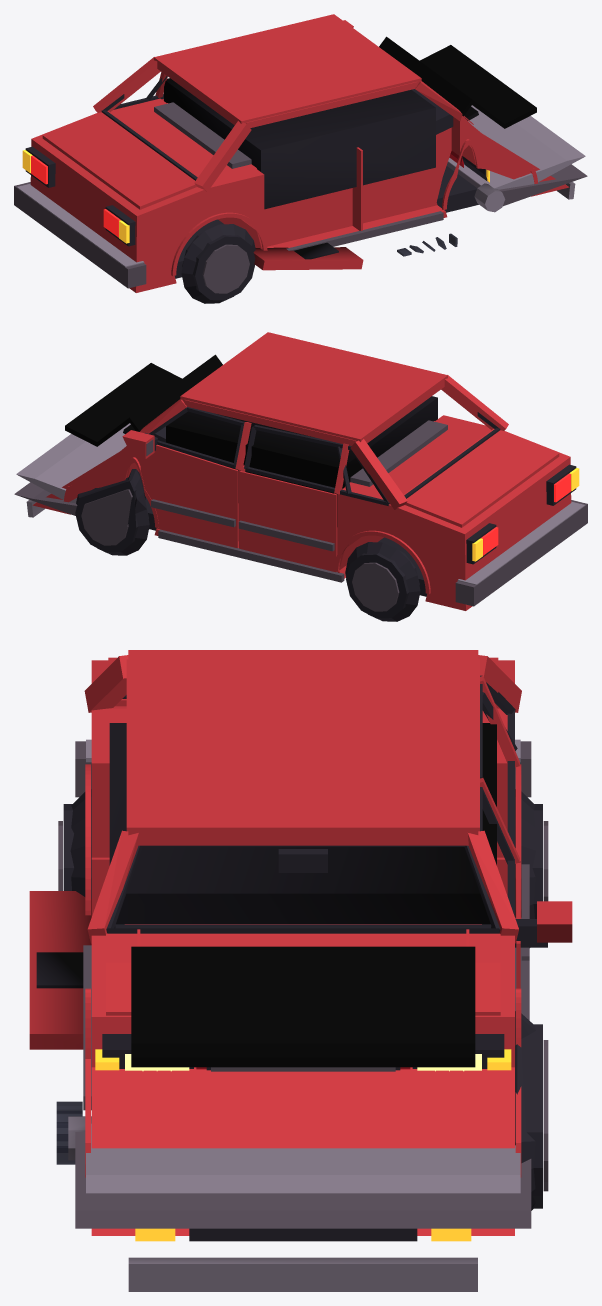
Rendered from model.wrecked.lod1.glb.
3 views of the same model, one above another, from view 1: azimuth 30°, elevation 25°; view 2: azimuth 150°, elevation 25°; view 3: azimuth 270°, elevation 25° (orthographic). The views are drawn at different scales.
Visible parts, largest first — view 1: body_pal_survivorRed, exposedCabin, body_pal_asphalt, body_pal_sidewalk, buckledHood, body_pal_uiDark, wheelRL_pal_uiDark, tornDoor, wheelRL_pal_asphalt, lightsBrake_emi_sirenRed, exposedAxleHub, doorScorch (+1 smaller); view 2: body_pal_survivorRed, exposedCabin, doorR_pal_survivorRed, doorRearR_pal_survivorRed, body_pal_asphalt, buckledHood, body_pal_sidewalk, wheelRR_pal_uiDark, wheelFR_pal_uiDark, body_pal_uiDark, wheelFR_pal_asphalt, doorRearR_pal_uiDark (+6 smaller); view 3: body_pal_survivorRed, buckledHood, exposedCabin, body_pal_asphalt, body_pal_sidewalk, detachedBumper, body_pal_uiDark, tornDoor, wheelFR_pal_uiDark, doorR_pal_survivorRed, wheelRR_pal_uiDark, wheelRL_pal_uiDark (+6 smaller).
Part boxes in pixels (bbox=[...]): body_pal_survivorRed: bbox=[30, 14, 569, 292]; exposedCabin: bbox=[164, 78, 435, 209]; body_pal_asphalt: bbox=[14, 102, 587, 288]; body_pal_sidewalk: bbox=[16, 105, 585, 267]; buckledHood: bbox=[379, 36, 536, 128]; body_pal_uiDark: bbox=[25, 89, 487, 278]; wheelRL_pal_uiDark: bbox=[181, 224, 255, 303]; tornDoor: bbox=[253, 247, 363, 270]; wheelRL_pal_asphalt: bbox=[202, 244, 249, 293]; lightsBrake_emi_sirenRed: bbox=[31, 155, 120, 237]; exposedAxleHub: bbox=[474, 183, 505, 212]; doorScorch: bbox=[294, 242, 338, 259]; body_pal_survivorRed: bbox=[32, 332, 571, 610]; exposedCabin: bbox=[166, 396, 437, 526]; doorR_pal_survivorRed: bbox=[122, 422, 251, 548]; doorRearR_pal_survivorRed: bbox=[239, 443, 349, 572]; body_pal_asphalt: bbox=[14, 420, 587, 606]; buckledHood: bbox=[65, 354, 222, 446]; body_pal_sidewalk: bbox=[16, 423, 585, 585]; wheelRR_pal_uiDark: bbox=[345, 542, 420, 621]; wheelFR_pal_uiDark: bbox=[75, 469, 149, 555]; body_pal_uiDark: bbox=[145, 412, 576, 596]; wheelFR_pal_asphalt: bbox=[81, 489, 132, 545]; doorRearR_pal_uiDark: bbox=[244, 425, 389, 505]; body_pal_survivorRed: bbox=[84, 650, 521, 1235]; buckledHood: bbox=[131, 946, 475, 1067]; exposedCabin: bbox=[109, 723, 496, 928]; body_pal_asphalt: bbox=[75, 741, 531, 1228]; body_pal_sidewalk: bbox=[86, 739, 520, 1193]; detachedBumper: bbox=[128, 1257, 477, 1291]; body_pal_uiDark: bbox=[102, 695, 504, 1241]; tornDoor: bbox=[29, 891, 91, 1049]; wheelFR_pal_uiDark: bbox=[515, 1011, 542, 1210]; doorR_pal_survivorRed: bbox=[480, 778, 572, 988]; wheelRR_pal_uiDark: bbox=[515, 789, 542, 918]; wheelRL_pal_uiDark: bbox=[63, 789, 91, 898].
Bounding box in the file's own units: 4.53 × 1.57 × 2.31.
